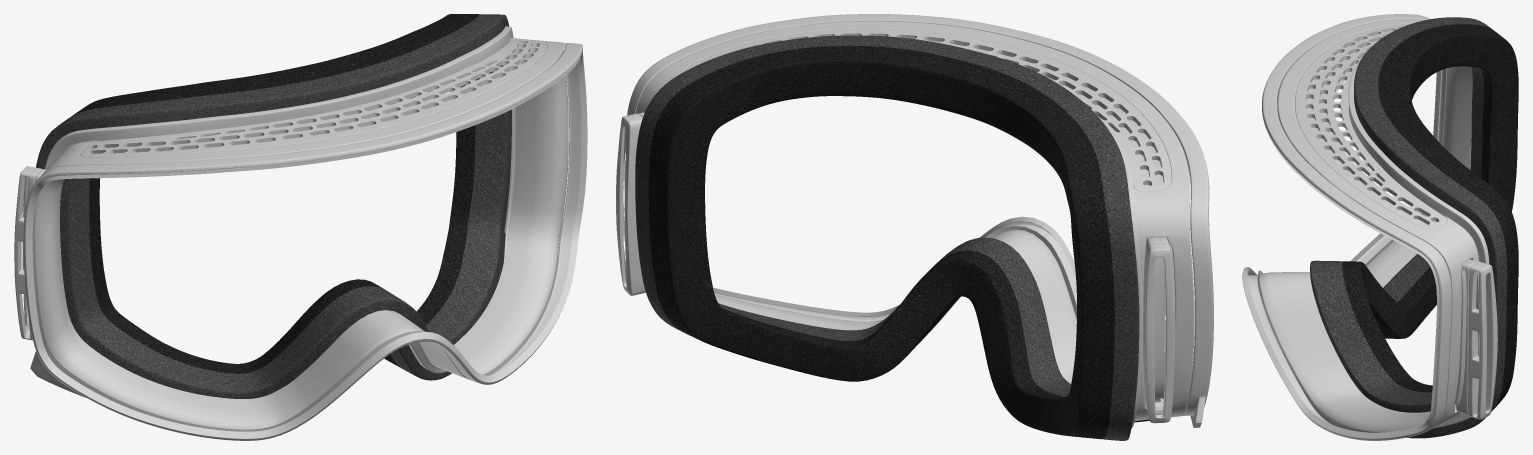
The model's file is FRAME_XPR_MOEX024_002.glb.
The picture shows the model from 3 angles, left to right: view 1: azimuth 30°, elevation 25°; view 2: azimuth 150°, elevation 25°; view 3: azimuth 270°, elevation 25°; orthographic projection. The views are drawn at different scales.
Visible parts, largest first — view 1: Full_rim_geometry, Frame-Add_Frame-02_geometry_geometry, Frame-Add_Frame-01_geometry_geometry, EXTRA_RIM_BEVEL; view 2: Frame-Add_Frame-02_geometry_geometry, Full_rim_geometry, Frame-Add_Frame-01_geometry_geometry, EXTRA_RIM_BEVEL; view 3: Full_rim_geometry, Frame-Add_Frame-02_geometry_geometry, Frame-Add_Frame-01_geometry_geometry, EXTRA_RIM_BEVEL.
Part boxes in pixels (<box>): Full_rim_geometry: <box>14,26,587,440</box>; Frame-Add_Frame-02_geometry_geometry: <box>36,14,511,398</box>; Frame-Add_Frame-01_geometry_geometry: <box>80,39,547,157</box>; EXTRA_RIM_BEVEL: <box>27,55,586,436</box>; Frame-Add_Frame-02_geometry_geometry: <box>635,35,1149,440</box>; Full_rim_geometry: <box>616,14,1213,427</box>; Frame-Add_Frame-01_geometry_geometry: <box>685,28,1171,191</box>; EXTRA_RIM_BEVEL: <box>713,216,1076,316</box>; Full_rim_geometry: <box>1242,14,1497,440</box>; Frame-Add_Frame-02_geometry_geometry: <box>1310,17,1518,438</box>; Frame-Add_Frame-01_geometry_geometry: <box>1295,23,1447,228</box>; EXTRA_RIM_BEVEL: <box>1243,70,1441,437</box>.
Bounding box in the file's own units: 0.1788 × 0.0982 × 0.0841.
Materials: 1 (1 with a texture image).
